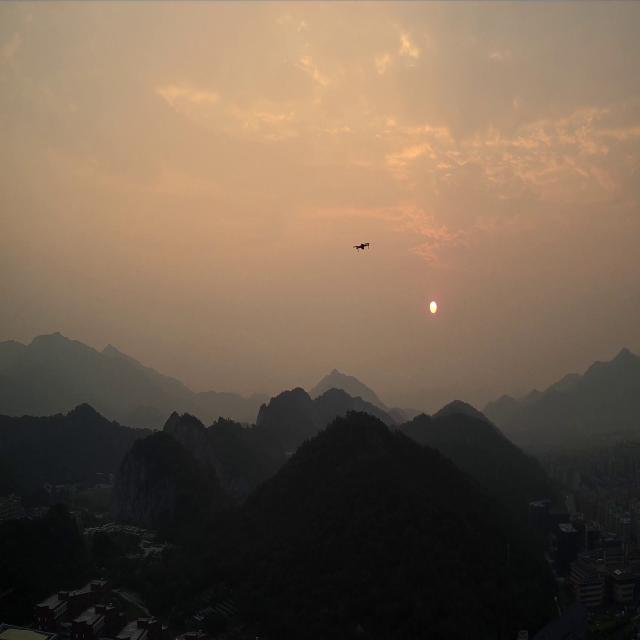drone: (353, 240, 370, 252)
